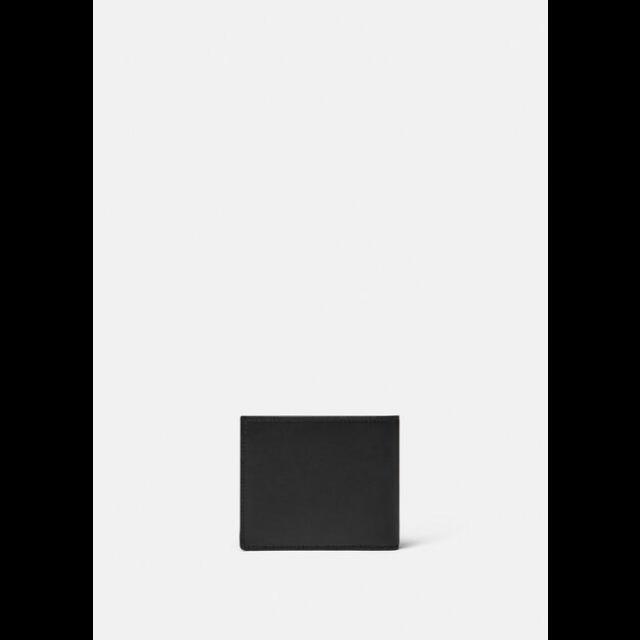wallet: (234, 411, 402, 554)
